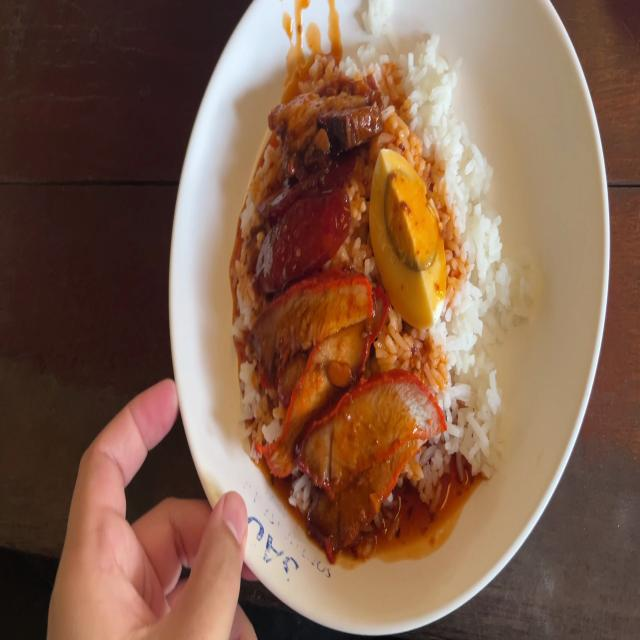01boiled_egg: (374, 152, 446, 327)
01chainese_sausage: (264, 159, 350, 267)
01crispy_pork: (271, 90, 381, 152)
01red_pork: (264, 286, 378, 482), (312, 370, 441, 534)
01red_pork_and_crispy_pork: (256, 41, 498, 499)
01rice: (445, 139, 501, 365), (382, 41, 461, 145), (441, 378, 502, 482)
